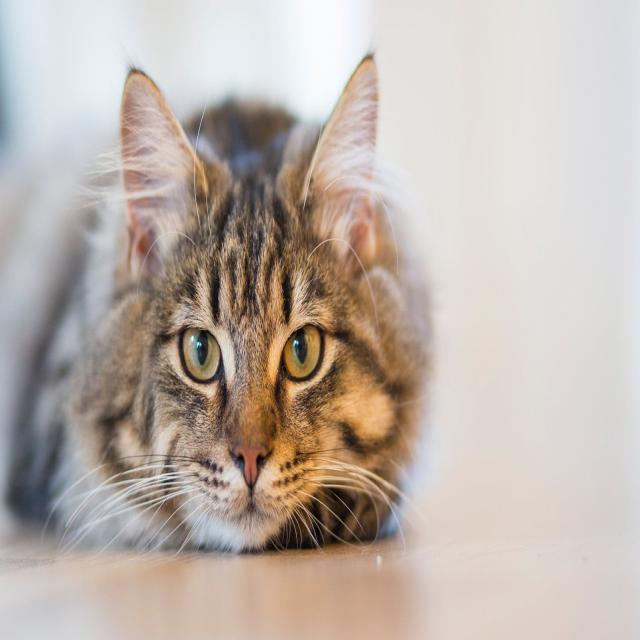Cat: (5, 49, 438, 560)
